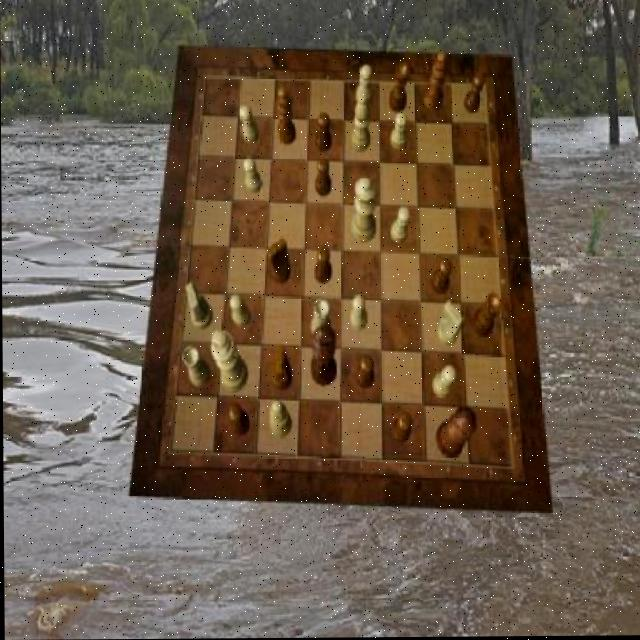bishop: (423, 53, 447, 111), (277, 88, 295, 145)
black-bishop: (310, 326, 336, 386)
black-king: (266, 238, 289, 284), (271, 346, 292, 392)
black-knight: (464, 74, 485, 116), (430, 259, 451, 297), (228, 403, 249, 437), (313, 247, 331, 285), (315, 114, 332, 154), (391, 413, 412, 444), (355, 356, 374, 390), (315, 158, 332, 196)
black-pawn: (434, 408, 475, 461)
black-queen: (471, 294, 500, 338), (388, 62, 408, 113)
black-rook: (351, 93, 370, 152), (268, 400, 290, 438)
white-bishop: (209, 329, 247, 392)
white-king: (184, 284, 211, 331), (436, 301, 464, 346)
white-knight: (431, 365, 455, 399), (390, 207, 410, 243), (240, 106, 258, 145), (243, 157, 261, 195), (356, 65, 373, 105), (229, 295, 249, 328), (349, 296, 367, 332), (390, 113, 407, 150)
white-pawn: (350, 178, 375, 244)
white-queen: (183, 346, 210, 386), (310, 299, 331, 342)
